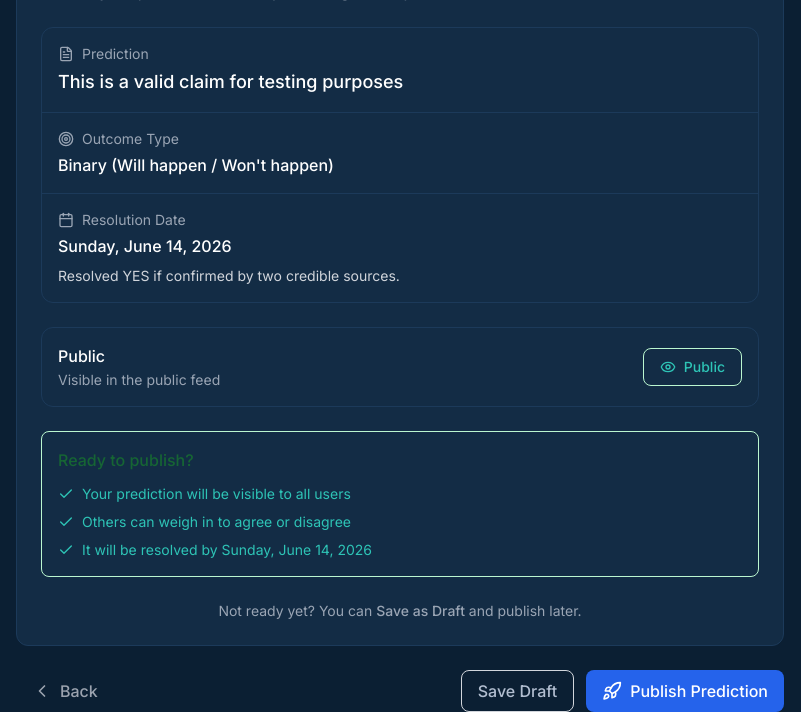
Test: ForecastWizard › submit guard — publish with stale/incomplete draft › navigates to correct step when server returns field validation details
This screenshot has width=801, height=712.
(page scrolled)
Click the button "Publish Prediction".
click(685, 691)  # box [586, 670, 784, 711]
(page scrolled)
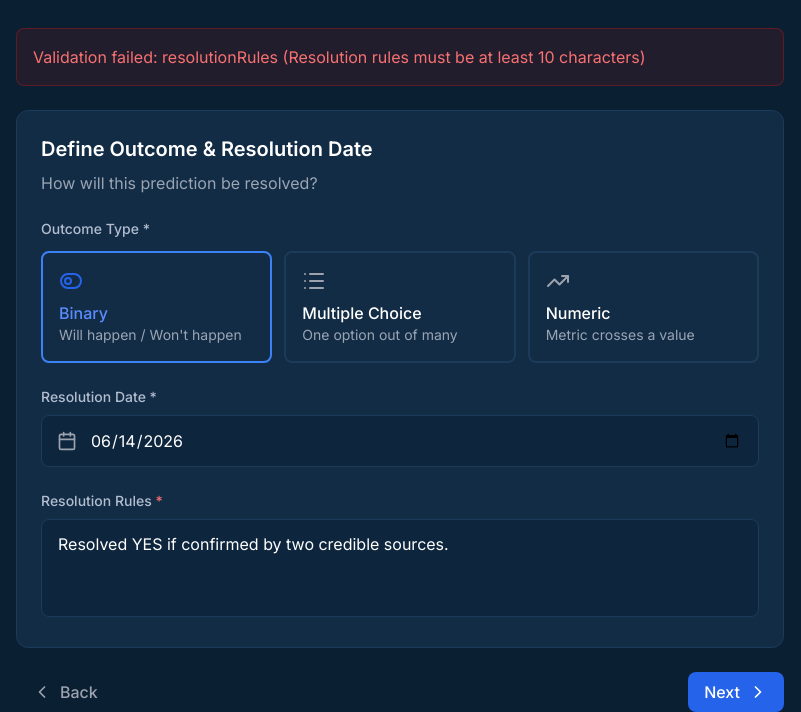
Now the text "Validation failed" is shown, box [33, 47, 646, 67]
